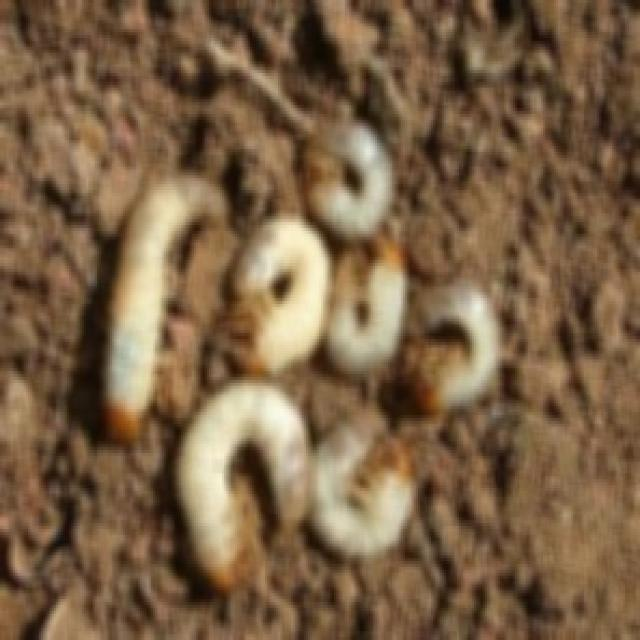grub: (104, 162, 231, 448), (181, 378, 312, 571), (311, 409, 438, 564), (223, 207, 335, 374), (411, 279, 506, 425), (289, 118, 399, 241), (321, 254, 405, 374)
